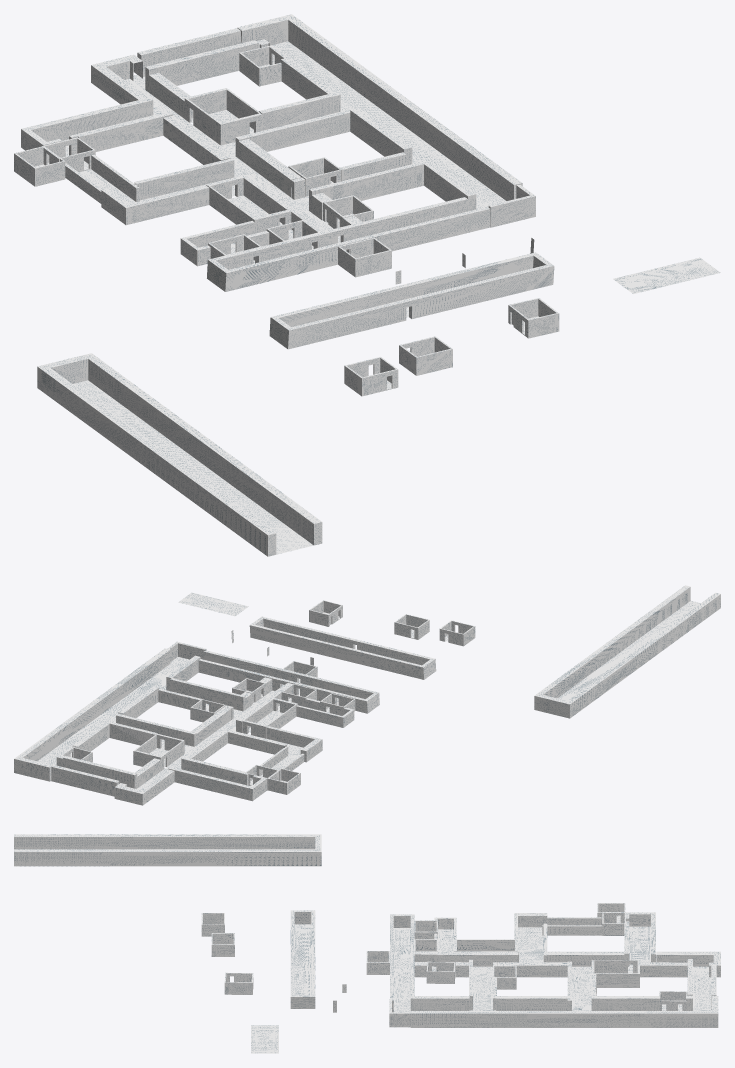
The picture shows the model from 3 angles, top to bottom: view 1: azimuth 30°, elevation 25°; view 2: azimuth 150°, elevation 25°; view 3: azimuth 270°, elevation 25°; orthographic projection. The views are drawn at different scales.
Visible parts, largest first — view 1: Model; view 2: Model; view 3: Model.
Part boxes in pixels (x1=…): Model: x1=14, y1=14, x2=720, y2=556; Model: x1=14, y1=585, x2=720, y2=805; Model: x1=14, y1=834, x2=720, y2=1053.
Bounding box in the file's own units: 9550 × 378 × 13900.
